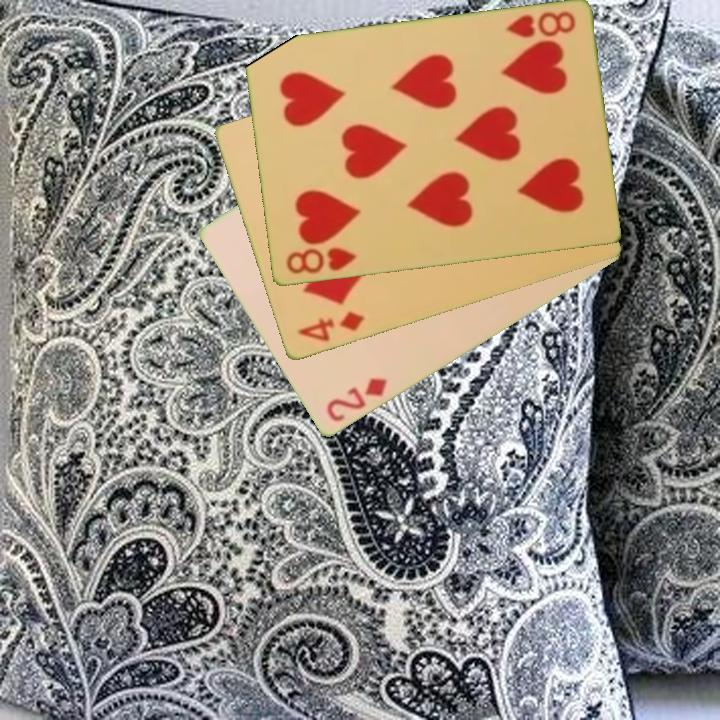2d: (322, 374, 390, 426)
4d: (294, 308, 367, 345)
8h: (282, 244, 359, 278), (502, 8, 578, 42)
